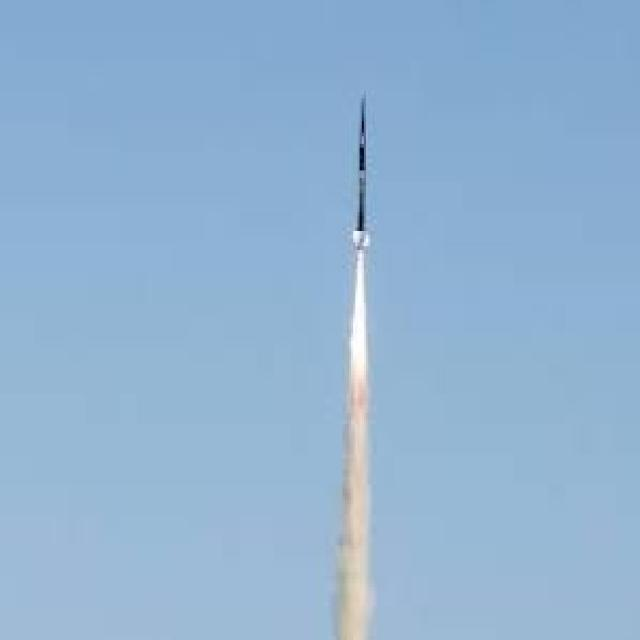Rocket: (350, 90, 374, 256)
